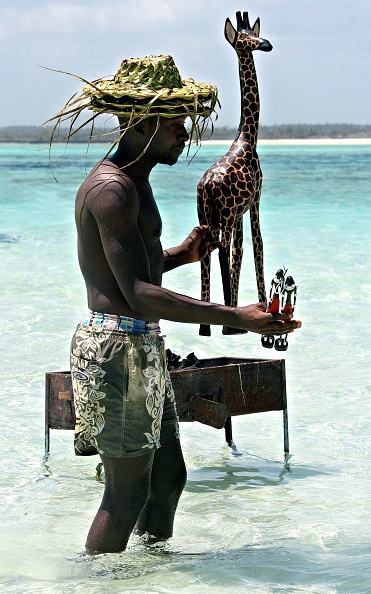em pe: (70, 76, 256, 570)
